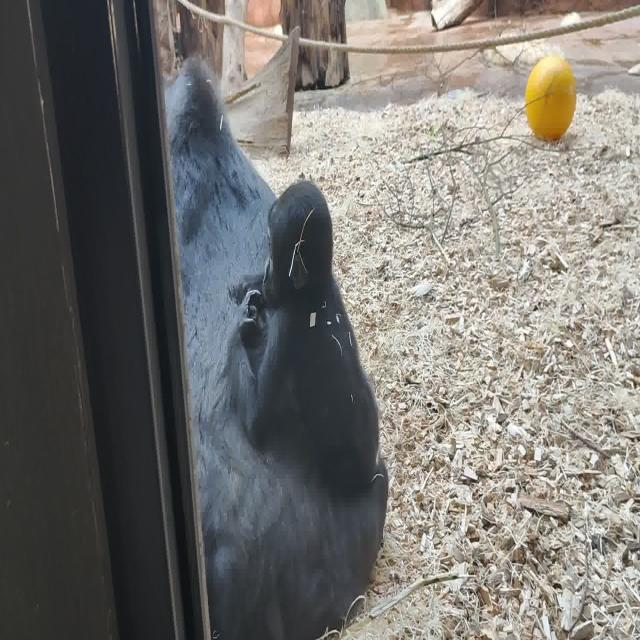monkey: (165, 52, 389, 640), (226, 180, 378, 502)
